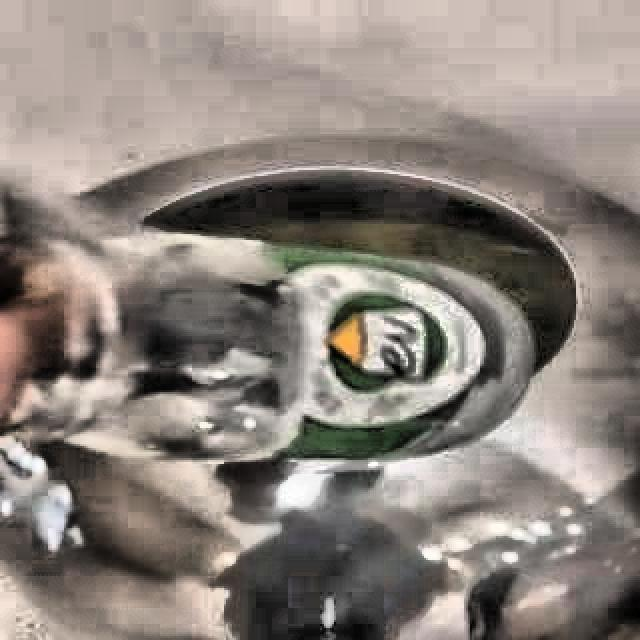glass: (0, 181, 539, 463)
